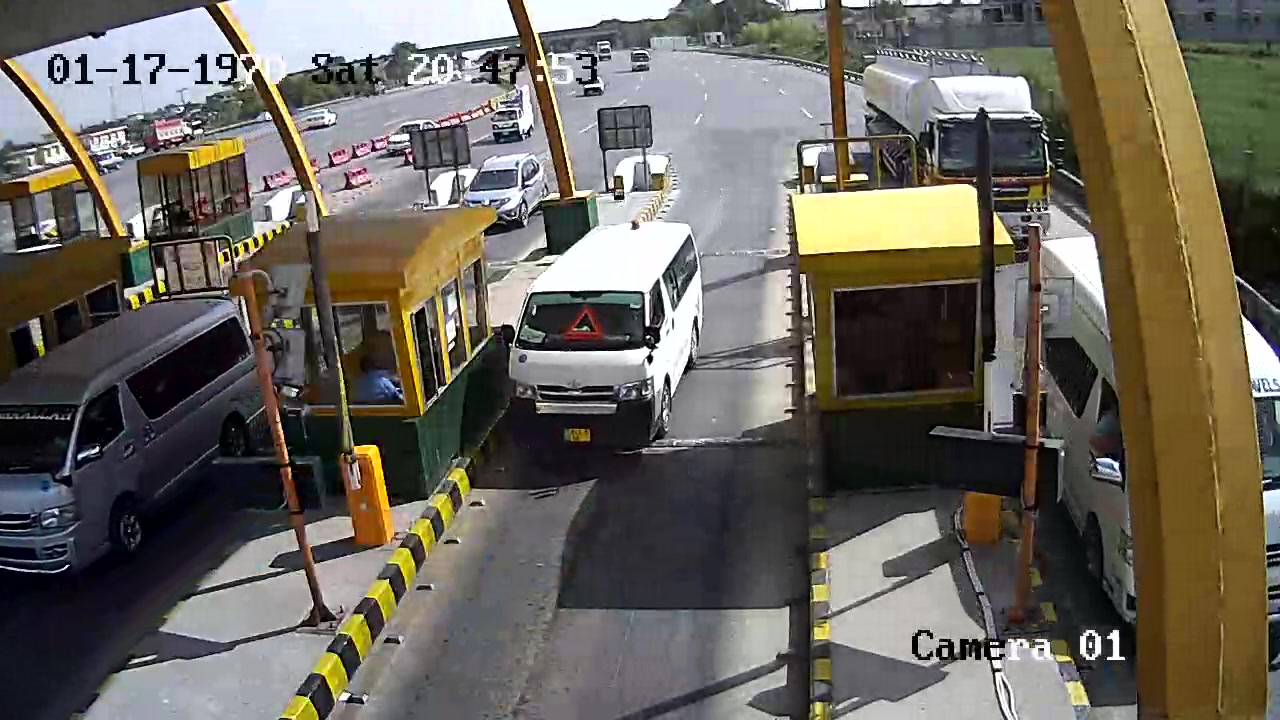F2: (504, 212, 709, 459)
